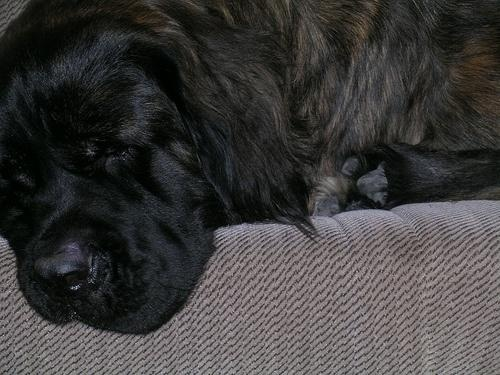dog: (3, 1, 500, 337)
